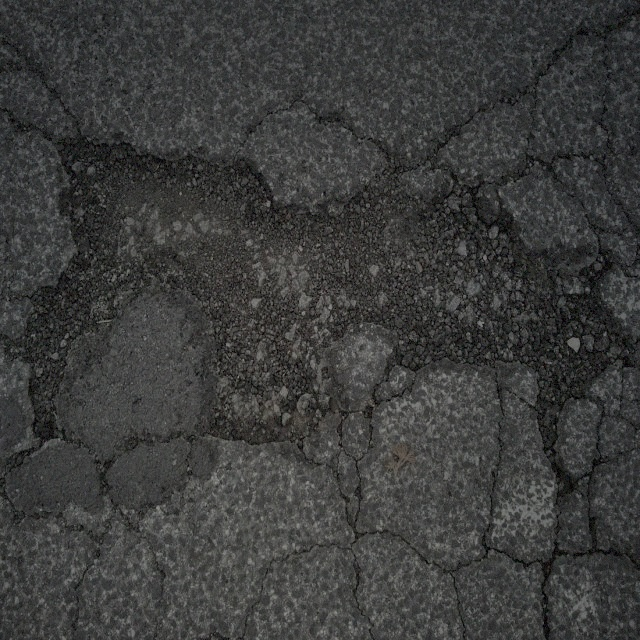pothole: (18, 128, 632, 497)
